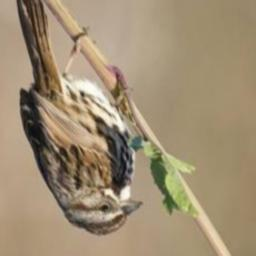Sparrow: (14, 0, 146, 240)
